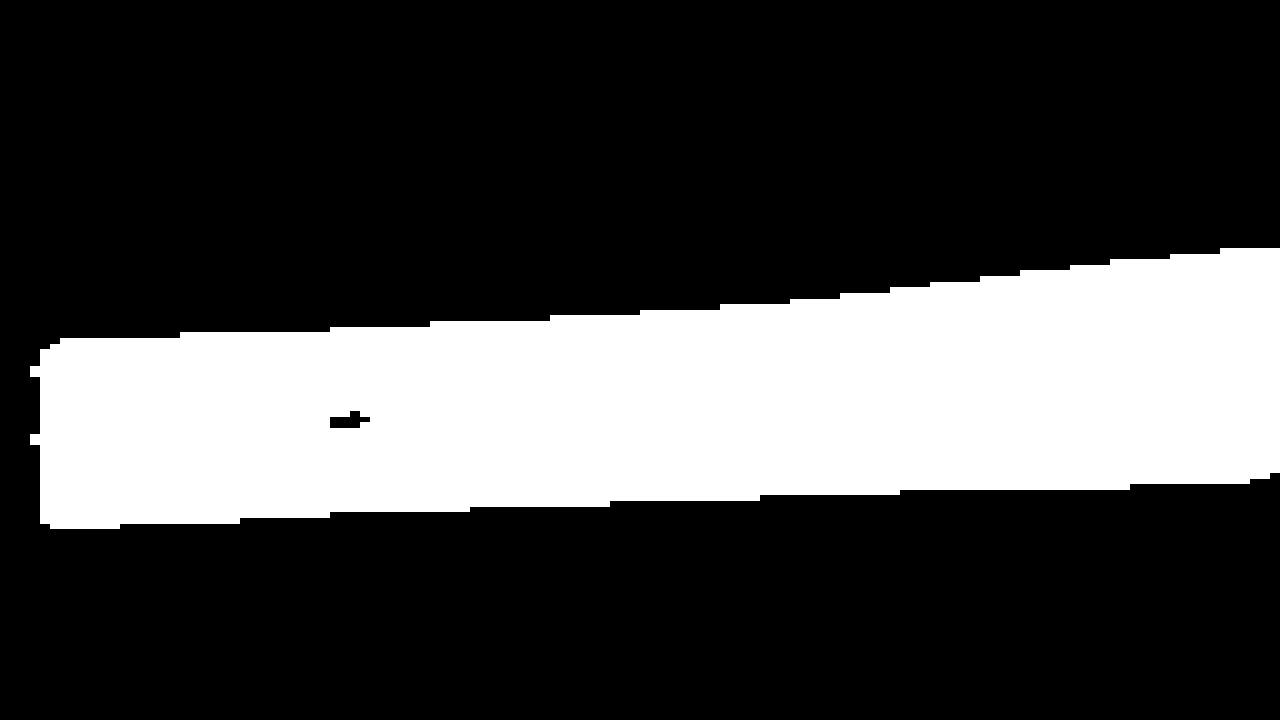Turbine: (11, 290, 1269, 526)
